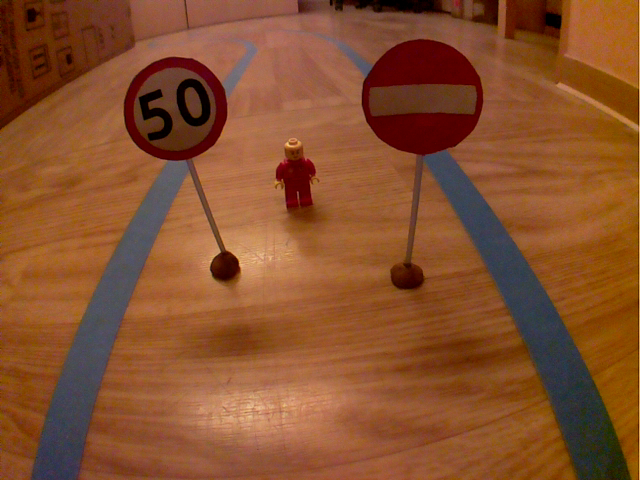Ograniczenie 50: (119, 53, 232, 166)
Postac LEGO: (270, 134, 324, 213)
Zakaz: (355, 34, 487, 161)
